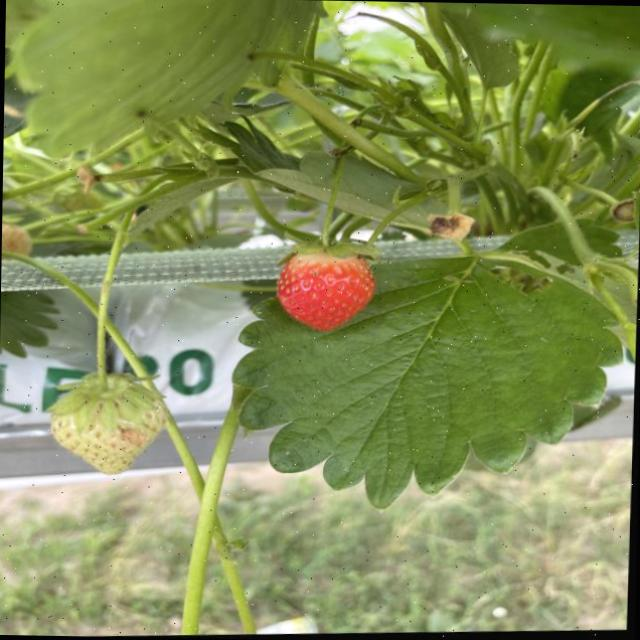stem: (48, 230, 157, 428), (279, 145, 378, 260)
strawberryNR: (50, 406, 160, 470)
strawberryR: (278, 252, 373, 328)
